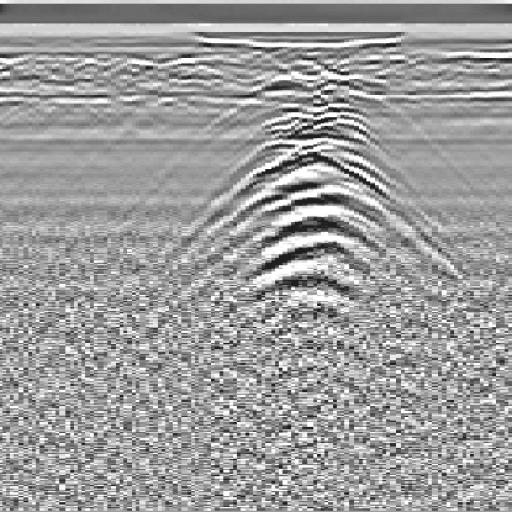metalic: (165, 67, 440, 351)
